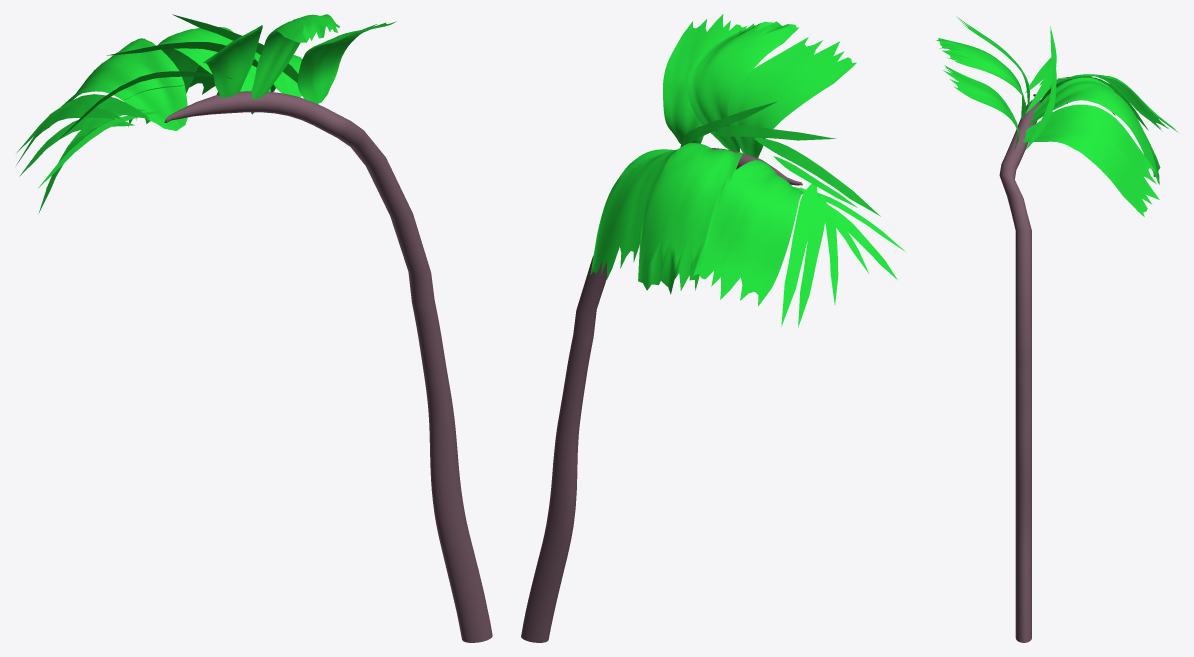
The model's file is tree.fbx.
3 views of the same model, side by side, from view 1: azimuth 30°, elevation 25°; view 2: azimuth 150°, elevation 25°; view 3: azimuth 270°, elevation 25° (orthographic). The views are drawn at different scales.
Visible parts, largest first — view 1: pPlane43; view 2: pPlane43; view 3: pPlane43.
Boxes of the visible parts, box(x1,y1,x2,y2) form: pPlane43: box(16, 14, 492, 642); pPlane43: box(521, 14, 906, 642); pPlane43: box(936, 16, 1177, 642).
Size of the model in its own units: 3.66 by 5.56 by 2.37.
